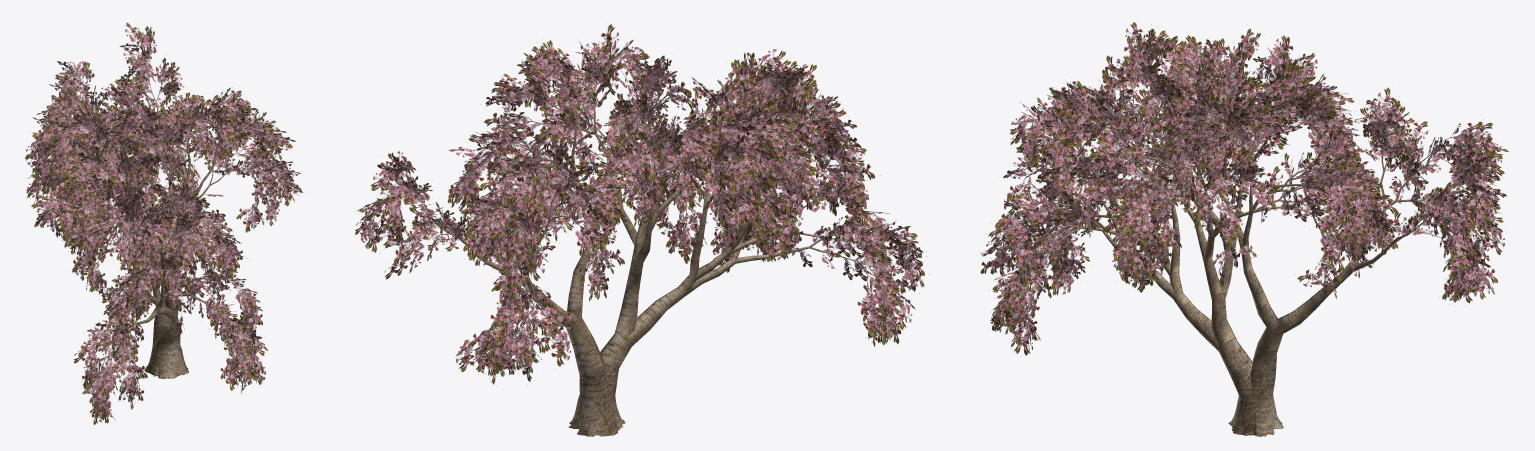
Rendered from sakura.gltf.
The picture shows the model from 3 angles, left to right: view 1: azimuth 30°, elevation 25°; view 2: azimuth 150°, elevation 25°; view 3: azimuth 270°, elevation 25°; orthographic projection. The views are drawn at different scales.
Visible parts, largest first — view 1: Tree; view 2: Tree; view 3: Tree.
Boxes of the visible parts, bbox=[...] form: Tree: bbox=[25, 22, 302, 424]; Tree: bbox=[355, 21, 929, 436]; Tree: bbox=[980, 19, 1508, 436].
Size of the model in its own units: 2.11 by 2.05 by 2.75.
Materials: 2 (2 with a texture image).
